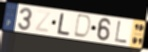3: (17, 7, 33, 32)
6: (96, 17, 113, 42)
D: (72, 13, 93, 40)
L: (56, 12, 71, 37), (113, 21, 128, 45)
Z: (34, 9, 53, 35)
